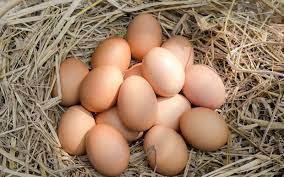egg: (82, 124, 130, 177), (182, 107, 231, 154), (119, 73, 158, 132), (145, 44, 186, 100), (142, 126, 189, 173), (76, 63, 122, 110), (184, 62, 232, 107), (59, 105, 97, 153), (128, 12, 165, 61), (52, 58, 88, 104), (95, 36, 131, 70)
